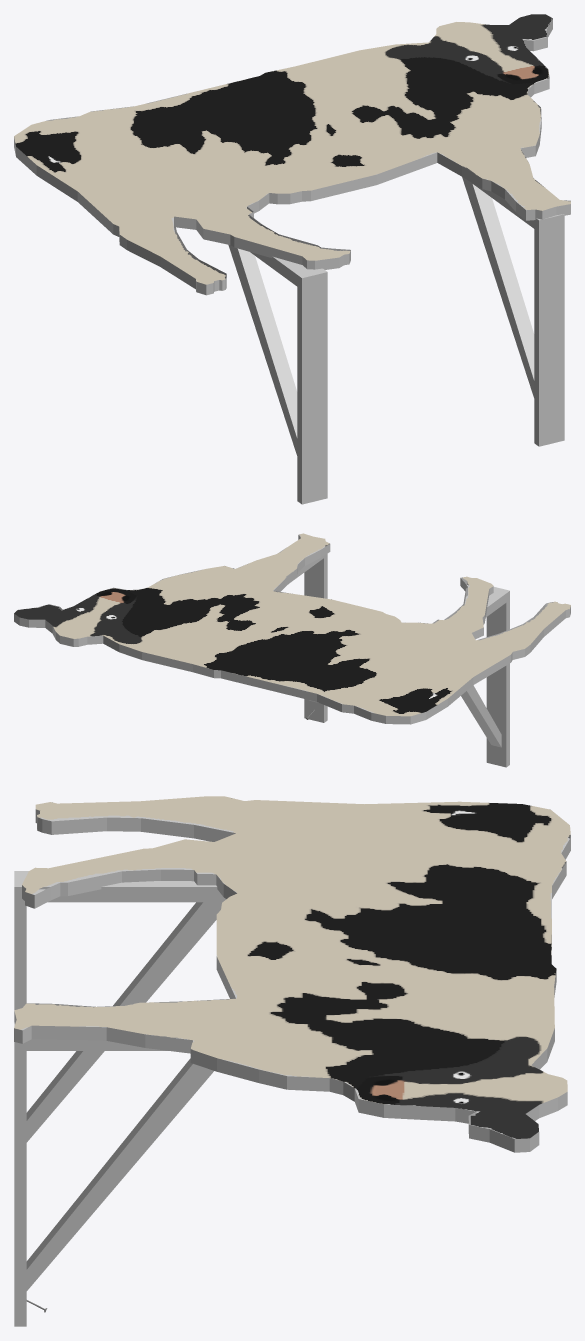
The model's file is Cow Billboard.fbx.
3 views of the same model, one above another, from view 1: azimuth 30°, elevation 25°; view 2: azimuth 150°, elevation 25°; view 3: azimuth 270°, elevation 25° (orthographic). The views are drawn at different scales.
Parts seen in each view (by area): view 1: Funny Cow; view 2: Funny Cow; view 3: Funny Cow.
Boxes of the visible parts, box(x1,y1,x2,y2) form: Funny Cow: box(14, 14, 570, 504); Funny Cow: box(14, 533, 570, 767); Funny Cow: box(14, 796, 570, 1326).
Size of the model in its own units: 29134 by 11979 by 19999.
